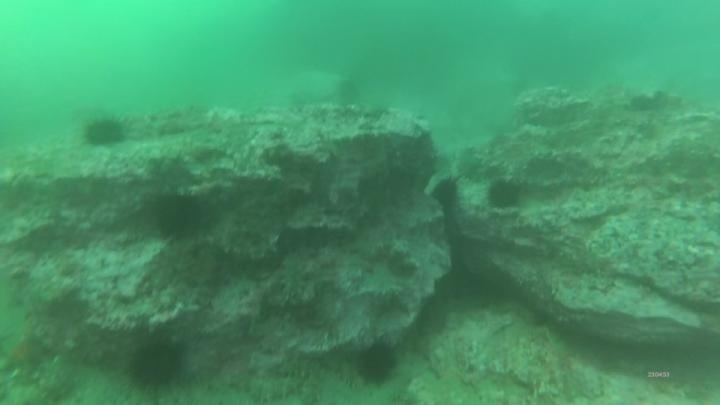echinus: (123, 333, 190, 395), (150, 189, 212, 243), (354, 338, 401, 387), (81, 114, 129, 150), (485, 177, 524, 212), (429, 176, 462, 212), (334, 76, 363, 108)
holothurian: (240, 369, 311, 404)
starfish: (1, 331, 50, 376)
